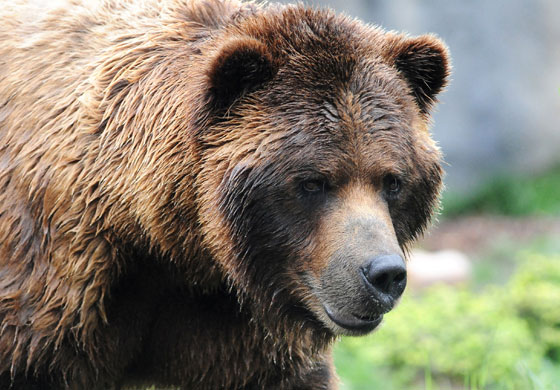bear: (197, 29, 456, 343)
